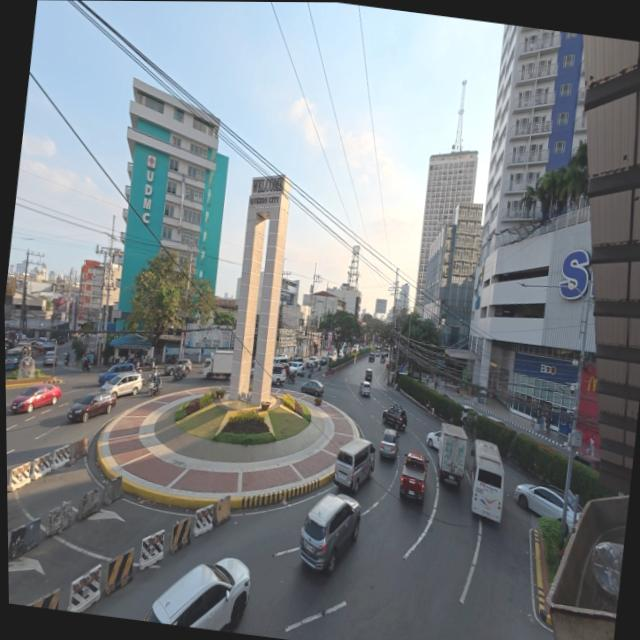bus: (471, 440, 504, 522)
car: (145, 559, 250, 630), (300, 494, 361, 573), (514, 484, 563, 520), (68, 391, 116, 422), (11, 383, 62, 412), (102, 373, 143, 397), (99, 363, 134, 386), (382, 404, 407, 430), (380, 430, 399, 459), (164, 359, 191, 375), (301, 380, 324, 396), (272, 364, 287, 386), (5, 349, 20, 370), (426, 431, 441, 449), (461, 404, 476, 421), (33, 341, 56, 352), (358, 380, 372, 397), (43, 350, 57, 366), (487, 416, 507, 427), (290, 362, 305, 376), (306, 356, 318, 367), (365, 369, 373, 382), (291, 357, 304, 364), (318, 356, 327, 366), (367, 352, 375, 363), (37, 337, 48, 344), (330, 350, 337, 360), (379, 355, 385, 364), (338, 351, 344, 359), (375, 352, 379, 357), (386, 362, 388, 367)
motorcycle: (149, 379, 162, 396), (142, 356, 155, 369), (173, 367, 185, 380), (82, 359, 90, 372), (289, 372, 296, 383), (64, 353, 69, 365)
trucks: (438, 423, 467, 483), (399, 452, 428, 500), (202, 351, 233, 379)
vans: (334, 439, 376, 493), (273, 355, 288, 365)
